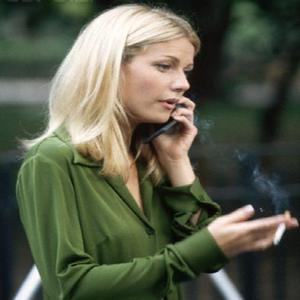cigarette: (269, 209, 289, 245)
